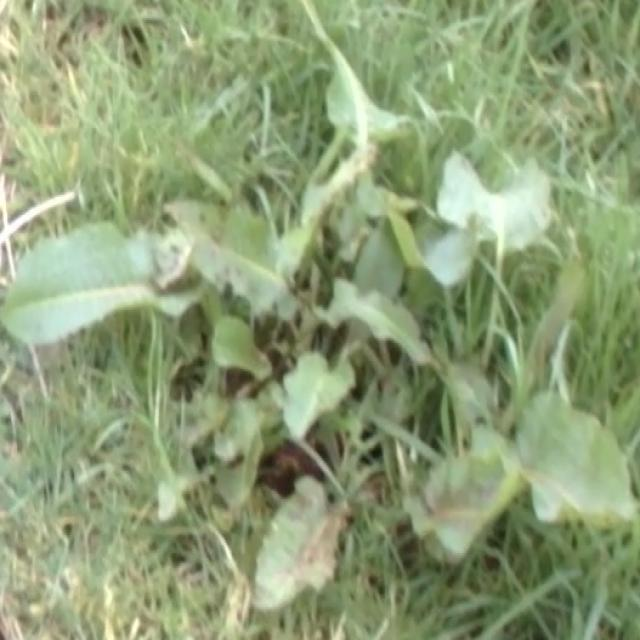organic waste: (0, 91, 640, 637), (0, 87, 395, 431), (307, 175, 640, 572)
